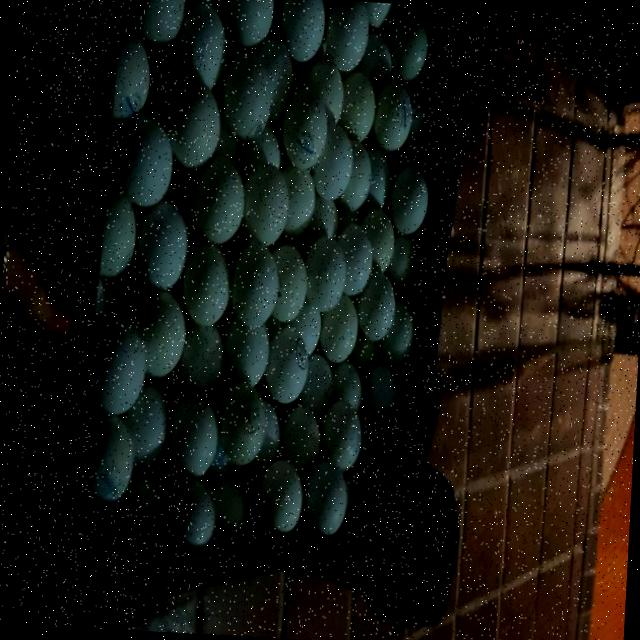ping-pong-ball: (88, 302, 154, 420), (112, 110, 180, 217), (166, 75, 226, 178), (215, 44, 275, 144), (132, 284, 188, 389), (212, 379, 272, 474), (83, 414, 138, 516), (128, 202, 190, 292), (223, 240, 283, 333), (157, 472, 221, 559), (188, 156, 248, 247), (164, 391, 222, 484), (172, 4, 234, 90), (277, 78, 333, 173), (177, 239, 234, 332), (235, 158, 292, 250), (250, 452, 307, 538), (266, 239, 318, 333), (298, 231, 349, 323), (299, 458, 356, 540), (262, 328, 312, 416), (367, 73, 415, 159), (317, 392, 367, 472), (320, 0, 372, 76), (310, 120, 354, 208), (386, 8, 436, 82), (386, 162, 434, 236), (318, 285, 358, 373), (356, 362, 404, 432), (376, 299, 421, 373), (352, 272, 398, 340), (333, 224, 375, 298)
